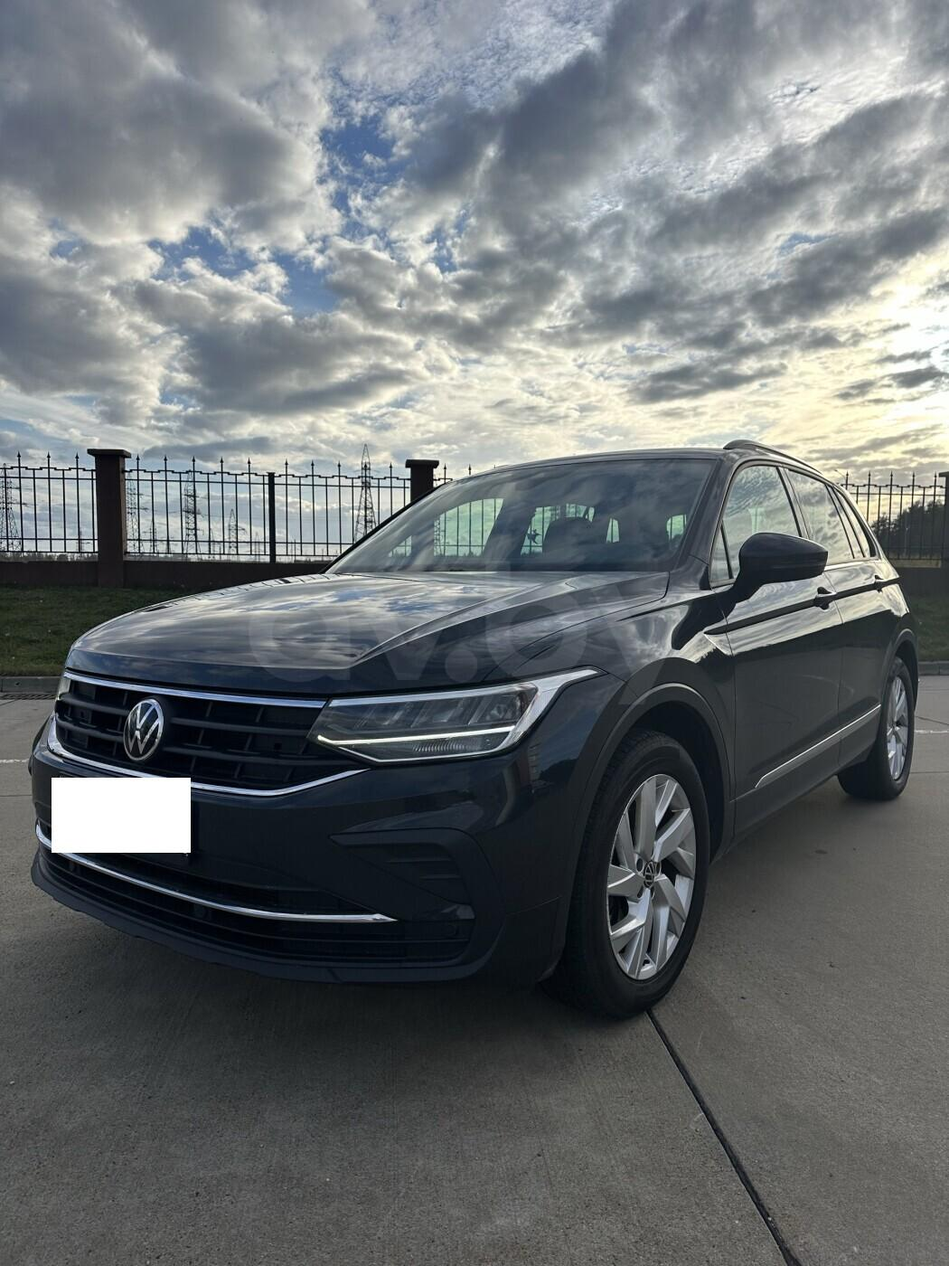Tiguan_2016-2021: (25, 436, 926, 1013)
